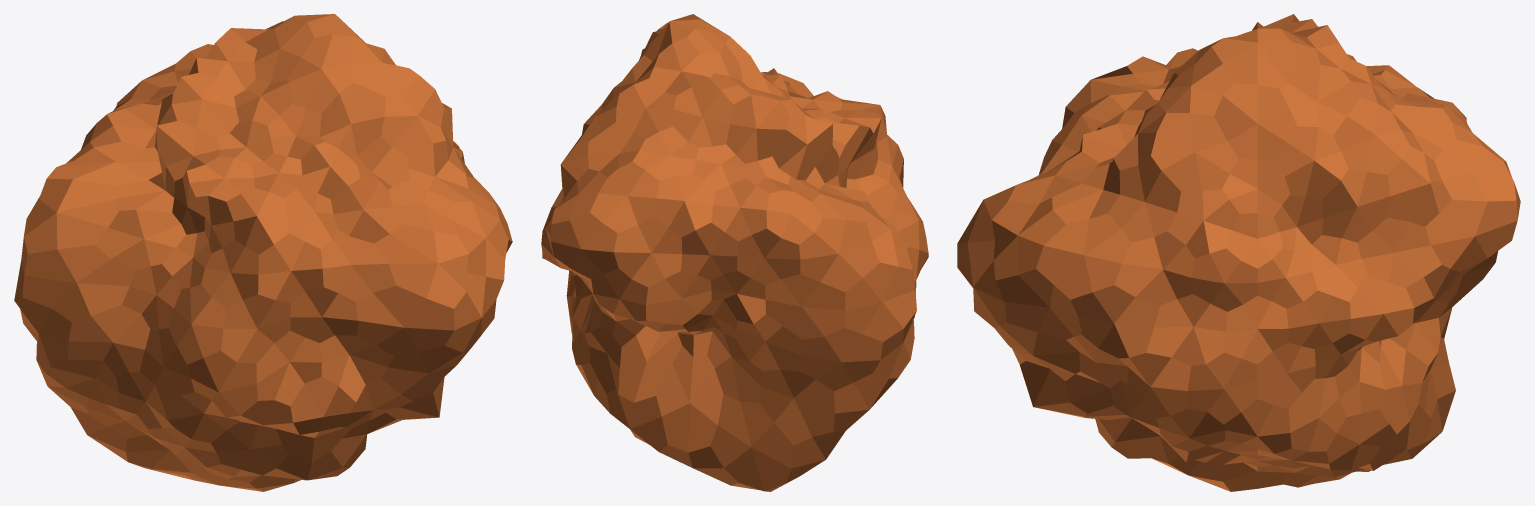
Rendered from asteroid2.obj.
The picture shows the model from 3 angles, left to right: view 1: azimuth 30°, elevation 25°; view 2: azimuth 150°, elevation 25°; view 3: azimuth 270°, elevation 25°; orthographic projection. The views are drawn at different scales.
Visible parts, largest first — view 1: Icosphere; view 2: Icosphere; view 3: Icosphere.
Part boxes in pixels (bbox=[...]): Icosphere: bbox=[14, 14, 512, 491]; Icosphere: bbox=[541, 14, 928, 491]; Icosphere: bbox=[957, 14, 1520, 491].
Size of the model in its own units: 5.68 by 6.07 by 6.15.
